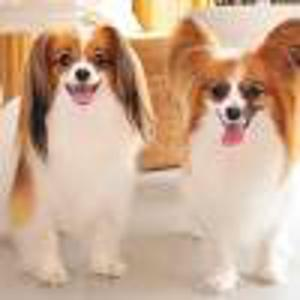yell: (163, 15, 300, 291)
